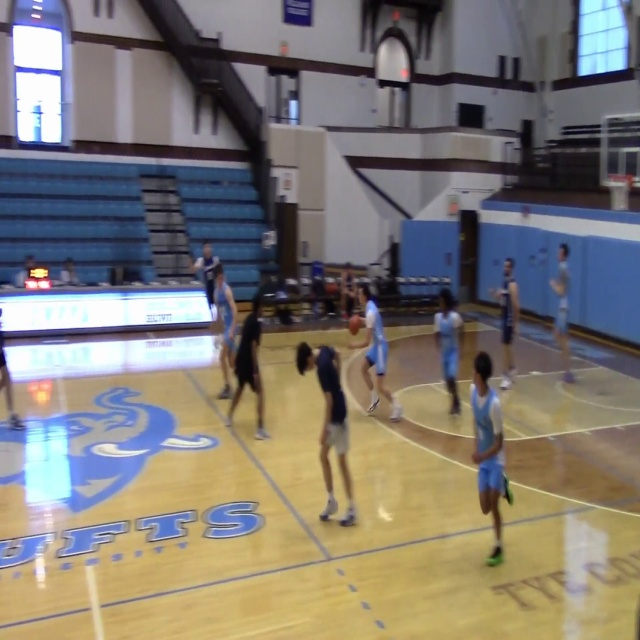Basketball: (348, 315, 362, 335)
